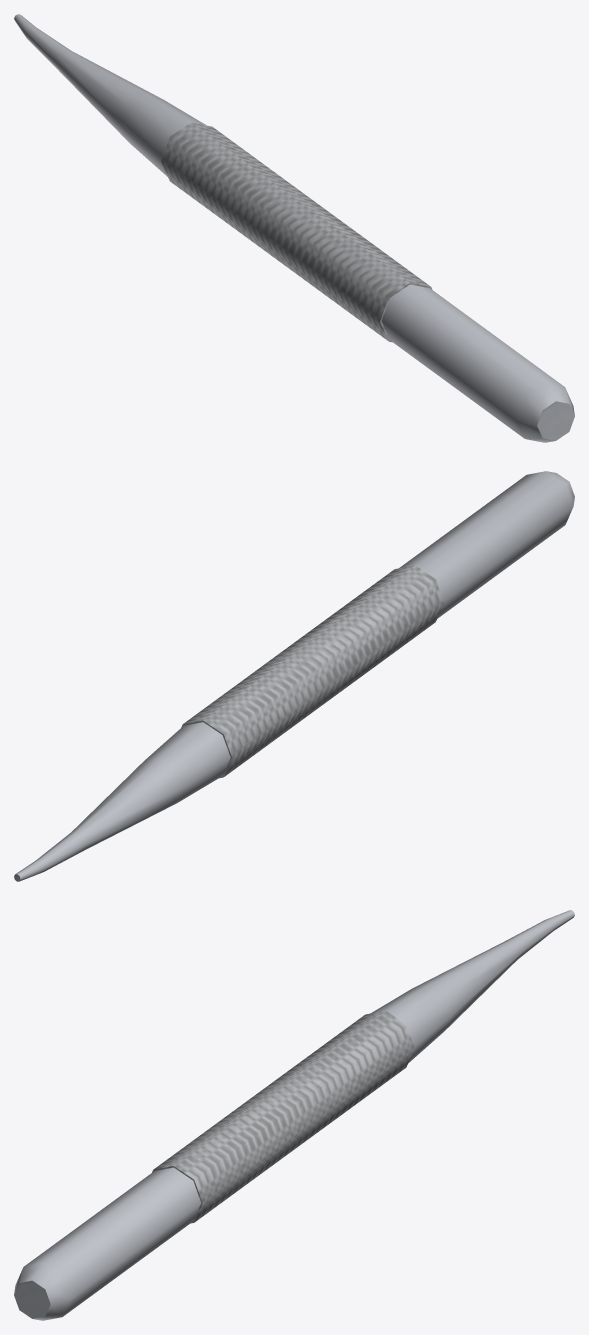
The model's file is micro_needle_holder.glb.
The picture shows the model from 3 angles, top to bottom: view 1: azimuth 30°, elevation 25°; view 2: azimuth 150°, elevation 25°; view 3: azimuth 330°, elevation 25°; orthographic projection. The views are drawn at different scales.
Visible parts, largest first — view 1: m1_micro_needle_holder; view 2: m1_micro_needle_holder; view 3: m1_micro_needle_holder.
Boxes of the visible parts, left/top/right/bottom form: m1_micro_needle_holder: left=14, top=14, right=574, bottom=442; m1_micro_needle_holder: left=14, top=471, right=574, bottom=881; m1_micro_needle_holder: left=14, top=910, right=574, bottom=1320.
Size of the model in its own units: 0.0095 by 0.0095 by 0.1501.
Materials: 1 (1 with a texture image).
